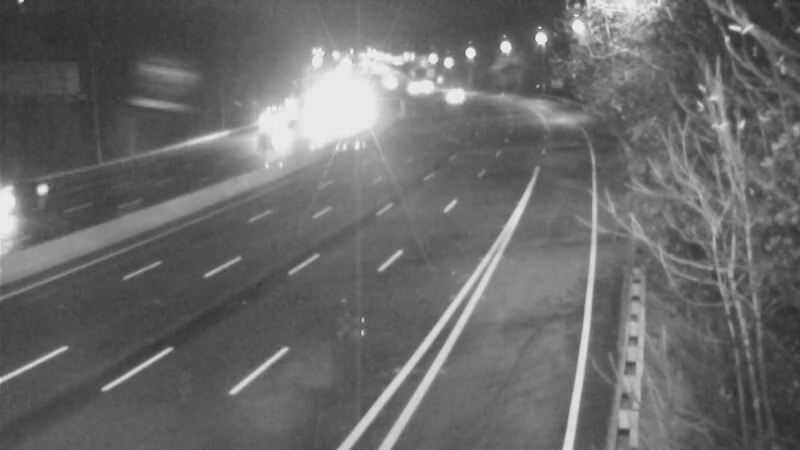vehicle: (1, 156, 71, 236), (394, 60, 444, 110), (426, 71, 476, 121), (243, 101, 293, 151)
